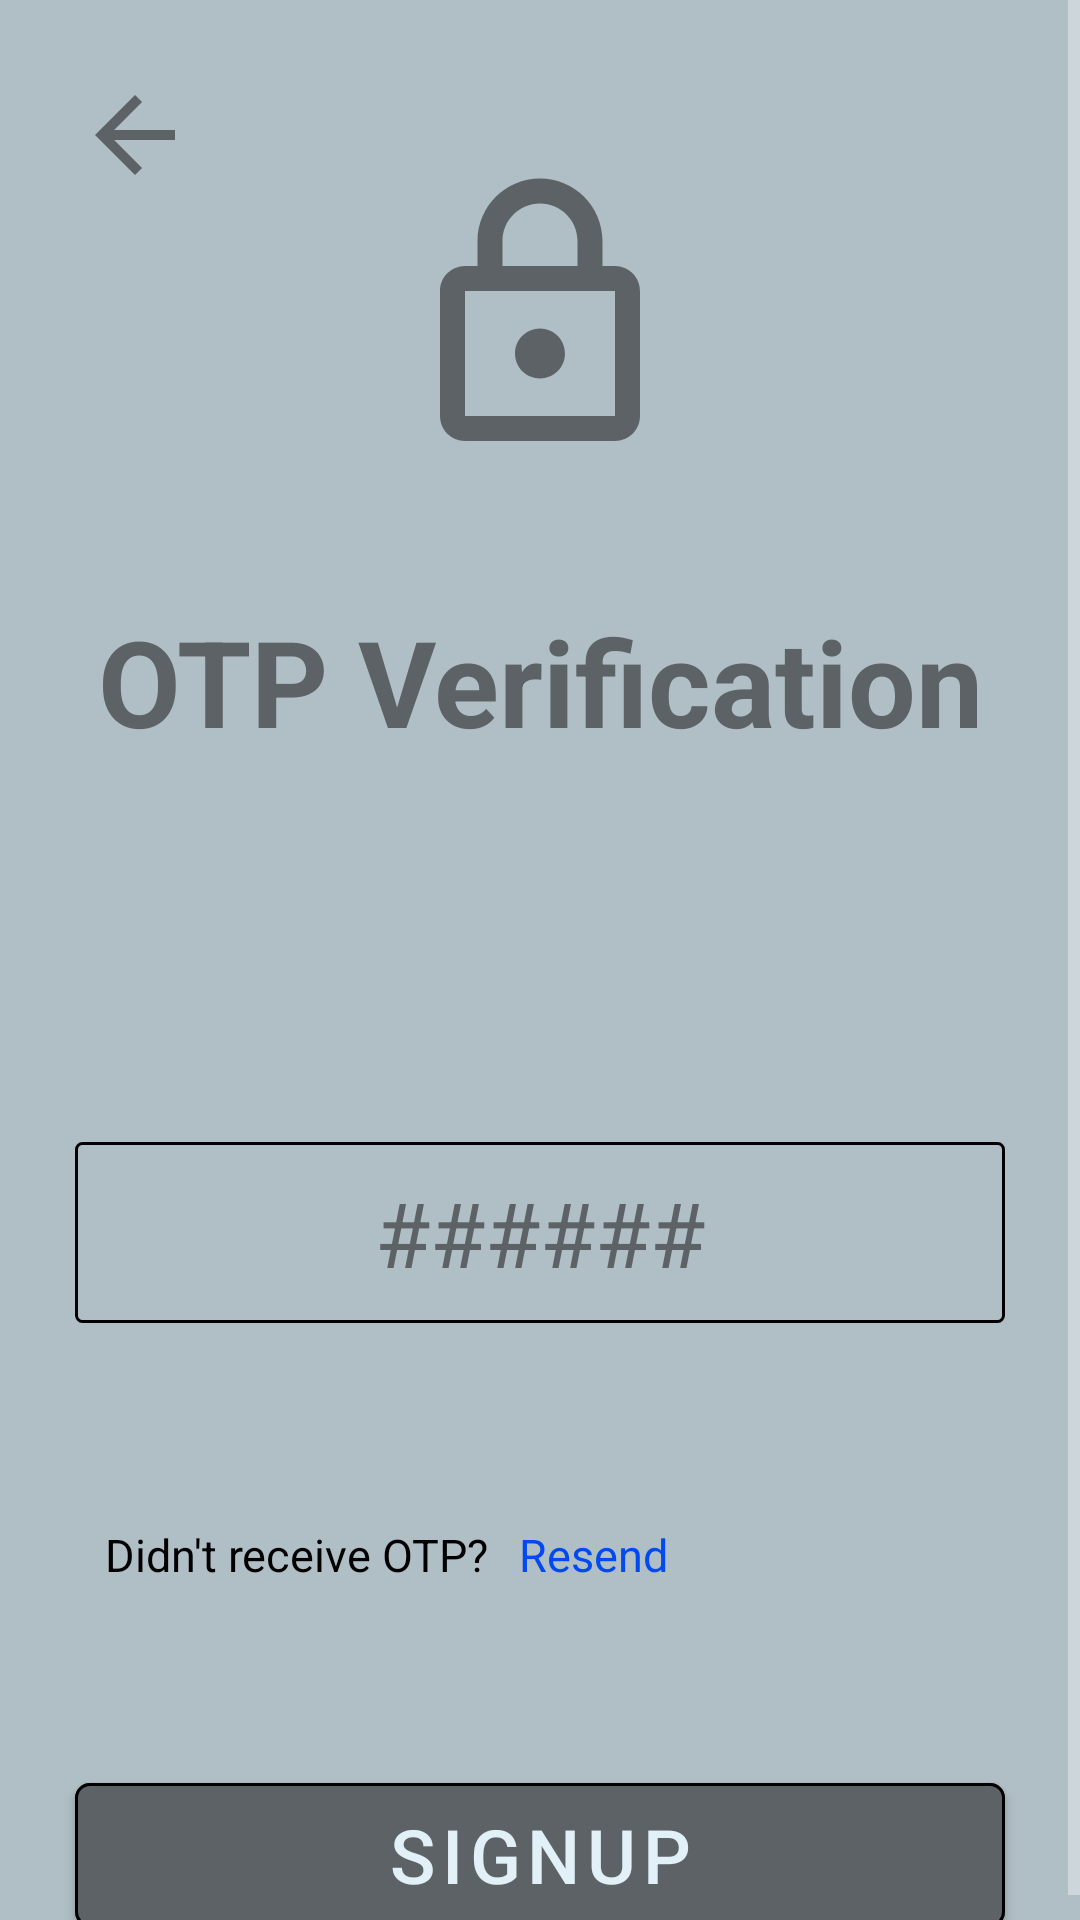

Screen size 1080px×1920px. Icon name, then its box in pixels as (x1, y1, x2, y2):
back: (95, 95, 175, 175)
lock: (440, 178, 640, 441)
